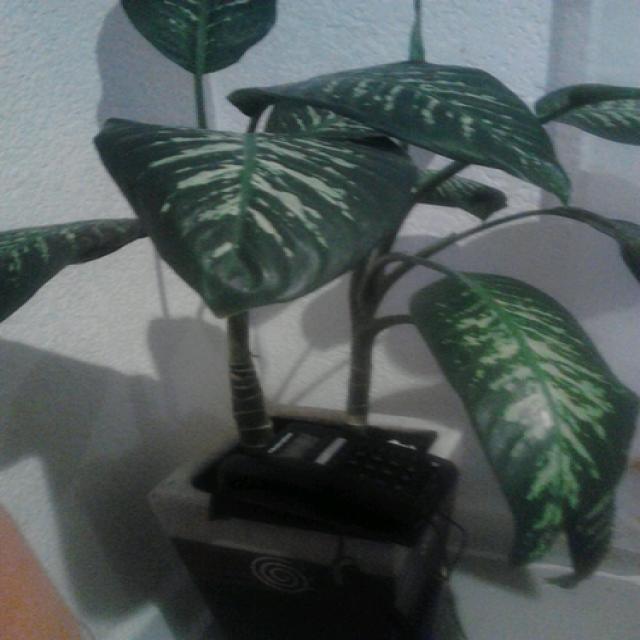dieffenbachia-oVHx: (0, 0, 572, 455), (348, 161, 640, 590), (532, 84, 640, 145)
